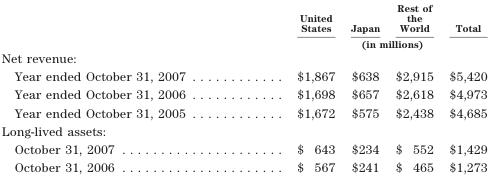table: (0, 1, 486, 173)
table column: (0, 1, 240, 173), (240, 1, 342, 173), (387, 1, 440, 173), (440, 1, 486, 173), (342, 1, 387, 173)
table column header: (0, 1, 486, 49)
table projected row header: (0, 121, 486, 139), (0, 49, 486, 66)
table row: (0, 1, 486, 35), (0, 66, 486, 85), (0, 85, 486, 103), (0, 103, 486, 121), (0, 121, 486, 139), (0, 139, 486, 157), (0, 49, 486, 66), (0, 157, 486, 173), (0, 35, 486, 49)
table spanning cell: (240, 35, 486, 49)
